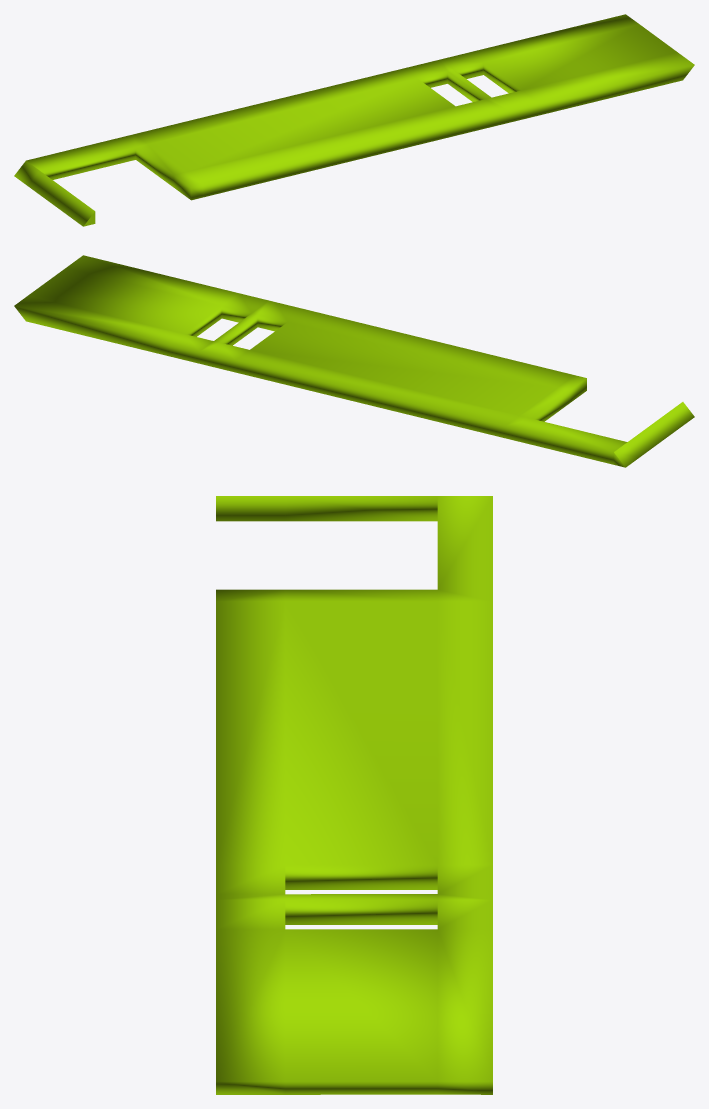
The model's file is wall_5_2_test.fbx.
3 views of the same model, one above another, from view 1: azimuth 30°, elevation 25°; view 2: azimuth 150°, elevation 25°; view 3: azimuth 270°, elevation 25° (orthographic). The views are drawn at different scales.
Visible parts, largest first — view 1: Cube.006; view 2: Cube.006; view 3: Cube.006.
Part boxes in pixels (x1,y1,x2,y2): Cube.006: (14, 14, 694, 226); Cube.006: (14, 255, 694, 467); Cube.006: (216, 496, 492, 1094).
Size of the model in its own units: 0.051 by 0.00101 by 0.01.
